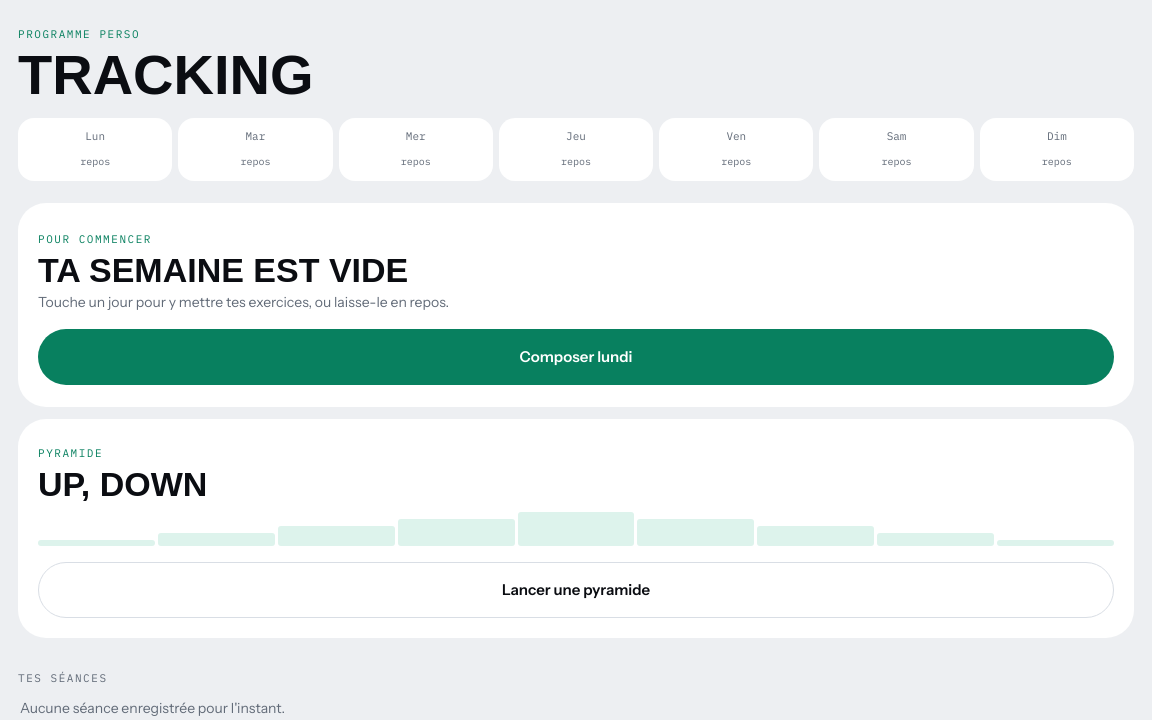
Test: TrackingScreen › invites to compose Monday when the programme is empty
This screenshot has width=1152, height=720.
Expected: the heading "Ta semaine est vide" is shown, [38,251,408,289]
Click the button "Composer lundi": (576, 357) [38,329,1114,385]
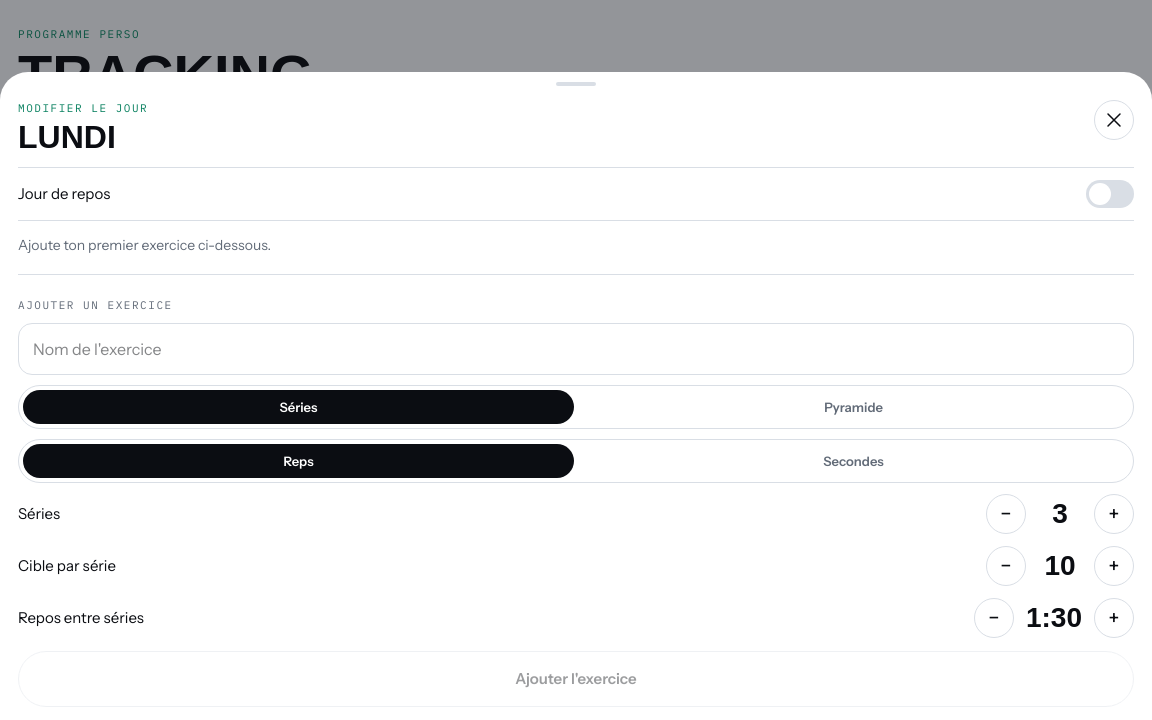
Result: the dialog named "Modifier le jour · Lundi" is shown
